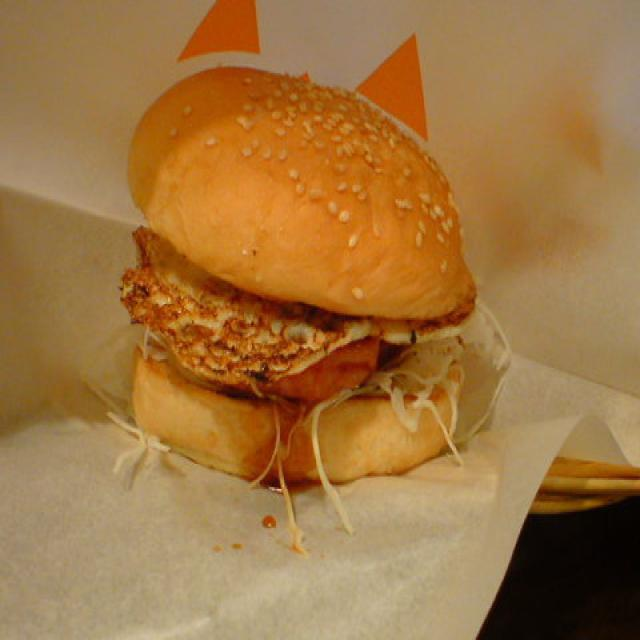Hamburger: (110, 61, 508, 492)
